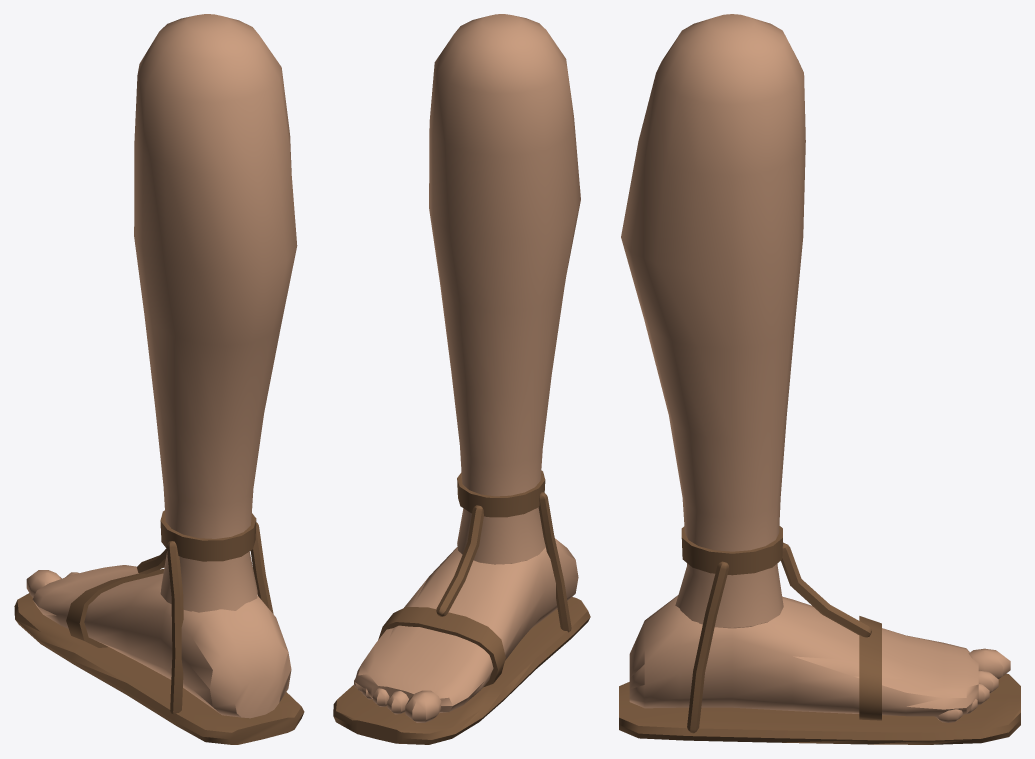
File: shin_r.glb
3 views of the same model, side by side, from view 1: azimuth 30°, elevation 25°; view 2: azimuth 150°, elevation 25°; view 3: azimuth 270°, elevation 25° (orthographic). The views are drawn at different scales.
Parts seen in each view (by area): view 1: OUT; view 2: OUT; view 3: OUT.
Boxes of the visible parts, bbox=[...] form: OUT: bbox=[14, 14, 304, 744]; OUT: bbox=[333, 14, 590, 744]; OUT: bbox=[619, 14, 1020, 744].
Bounding box in the file's own units: 0.1149 × 0.506 × 0.266.
